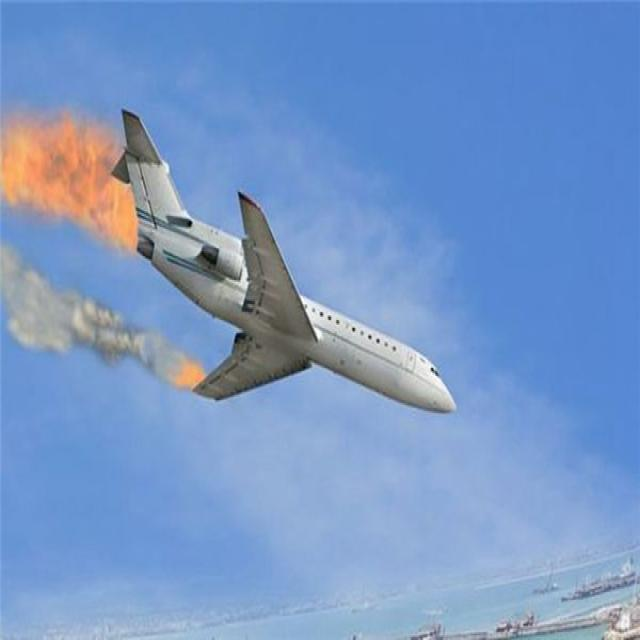Fire: (0, 111, 134, 242), (174, 360, 202, 390)
Smoke: (0, 244, 170, 380)
